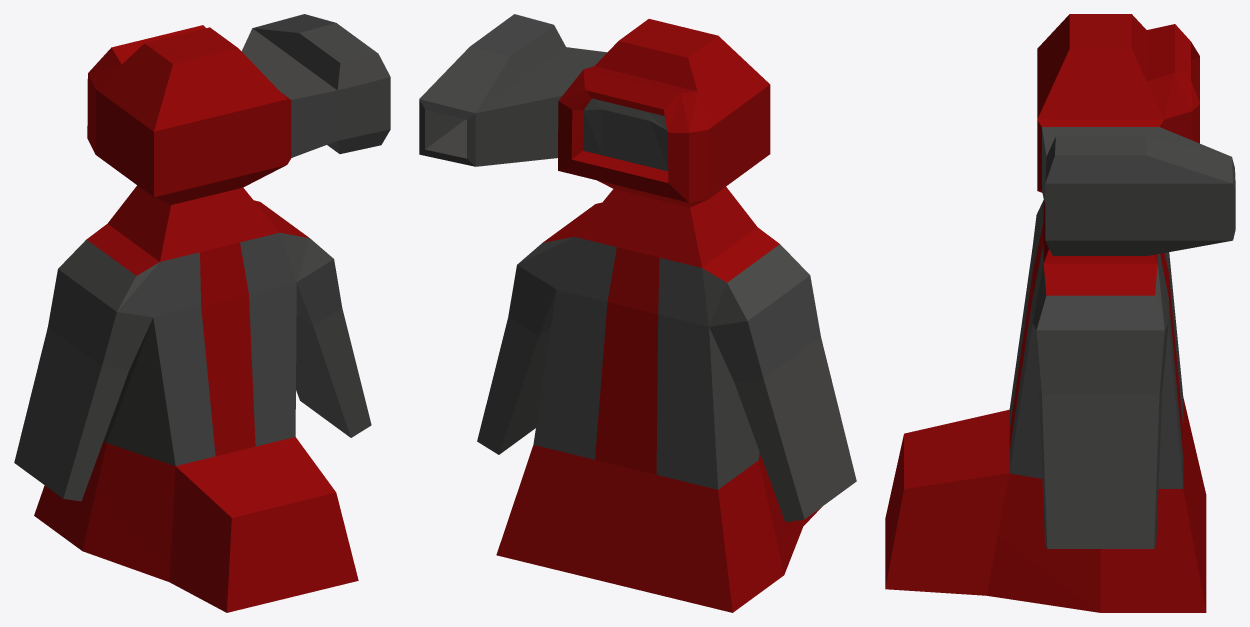
The model's file is BOSS_PROTO1.fbx.
The picture shows the model from 3 angles, left to right: view 1: azimuth 30°, elevation 25°; view 2: azimuth 150°, elevation 25°; view 3: azimuth 270°, elevation 25°; orthographic projection. The views are drawn at different scales.
Visible parts, largest first — view 1: Empty_Mesh; view 2: Empty_Mesh; view 3: Empty_Mesh.
Boxes of the visible parts, bbox=[...] form: Empty_Mesh: bbox=[14, 14, 390, 612]; Empty_Mesh: bbox=[419, 14, 856, 612]; Empty_Mesh: bbox=[885, 14, 1235, 612].
Size of the model in its own units: 1438 by 2019 by 1228.
